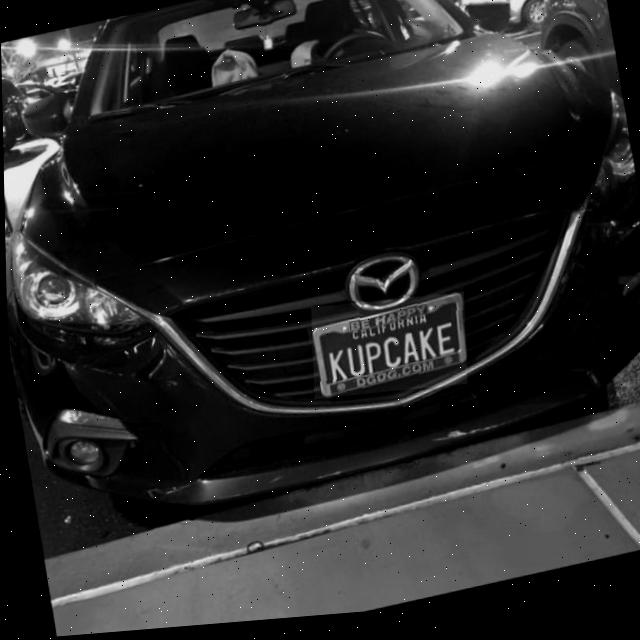LicensePlate: (310, 300, 464, 403)
